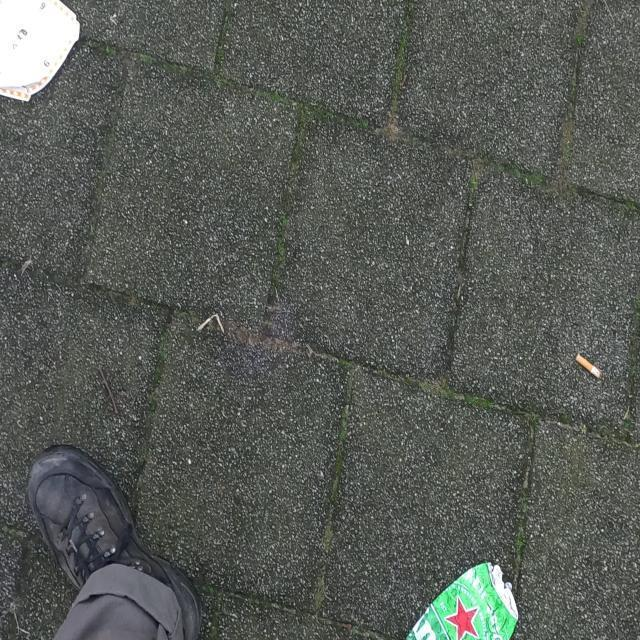Can-Metal: (404, 559, 520, 640)
Paper: (0, 0, 83, 105)
